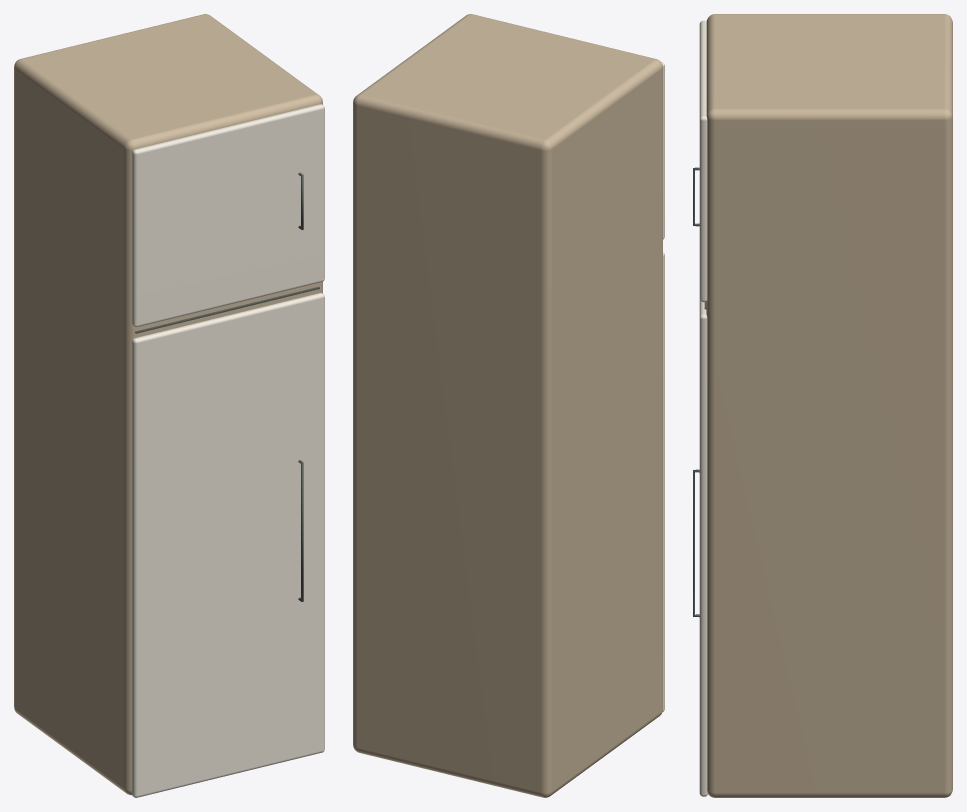
3 renders of one model, left to right at view 1: azimuth 30°, elevation 25°; view 2: azimuth 150°, elevation 25°; view 3: azimuth 270°, elevation 25°, orthographic. The views are drawn at different scales.
Visible parts, largest first — view 1: body, door_1, door_0, door_divider; view 2: body, door_1; view 3: body, door_1, door_0.
Boxes of the visible parts, left/top/right/bottom form: body: left=14, top=14, right=322, bottom=795; door_1: left=132, top=293, right=324, bottom=797; door_0: left=132, top=104, right=324, bottom=327; door_divider: left=135, top=286, right=319, bottom=333; body: left=353, top=14, right=662, bottom=797; door_1: left=662, top=252, right=664, bottom=711; body: left=706, top=14, right=952, bottom=797; door_1: left=699, top=300, right=707, bottom=796; door_0: left=699, top=20, right=707, bottom=302.
Bounding box in the file's own units: 0.6 × 1.9 × 0.65.
